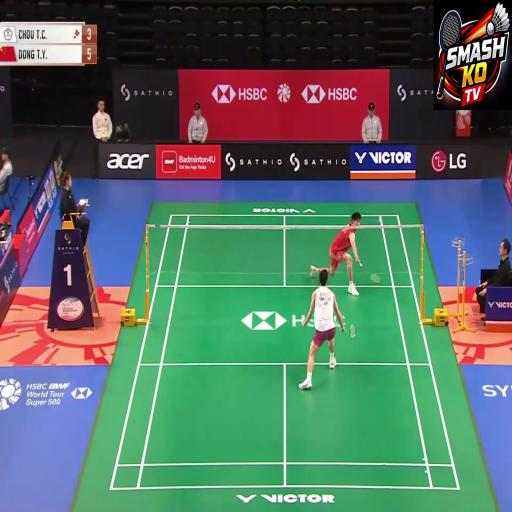player: (301, 259, 341, 407), (337, 190, 368, 322)
